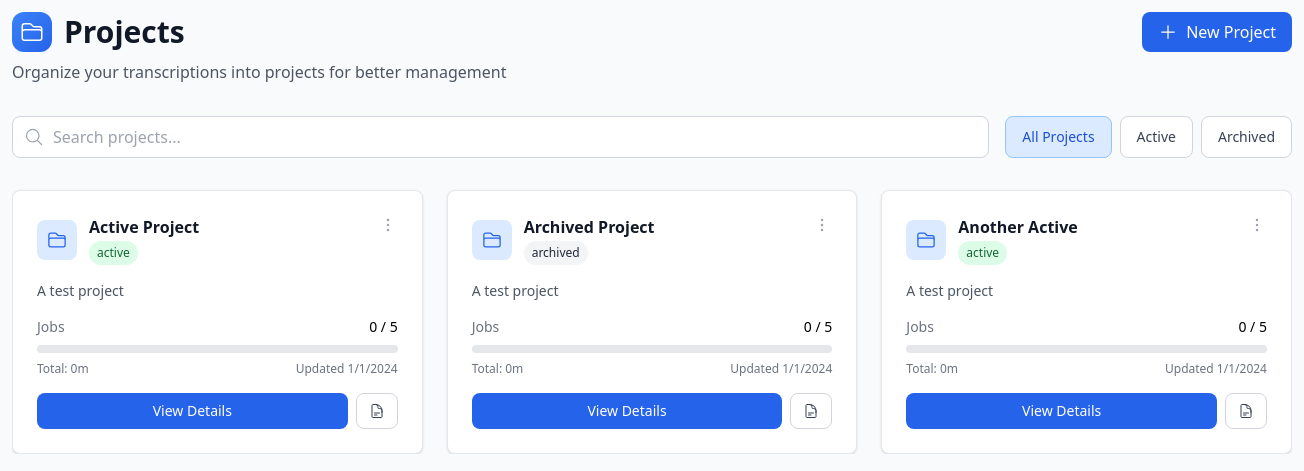
it: ProjectsPage Component › Filter Functionality › should filter by archived projects
The width and height of the screenshot is (1304, 471).
Expected: the heading "Archived Project" is shown, [524, 215, 655, 239]
Click the button "Archived": (1246, 137) [1201, 116, 1292, 158]
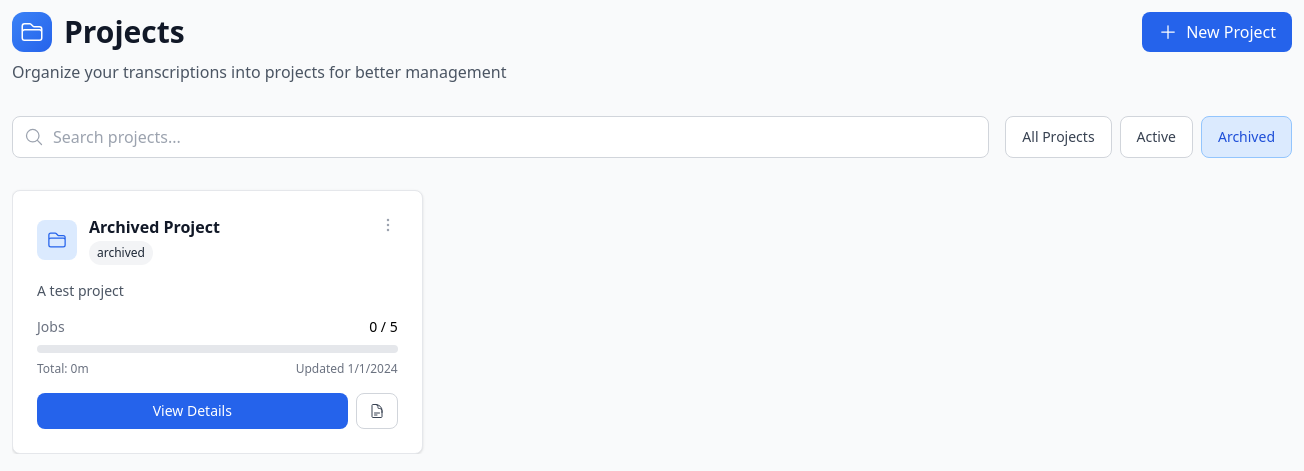
Expected: the heading "Archived Project" is shown, [89, 215, 220, 239]
Expected: the heading "Active Project" is gone
Expected: the heading "Another Active" is gone
